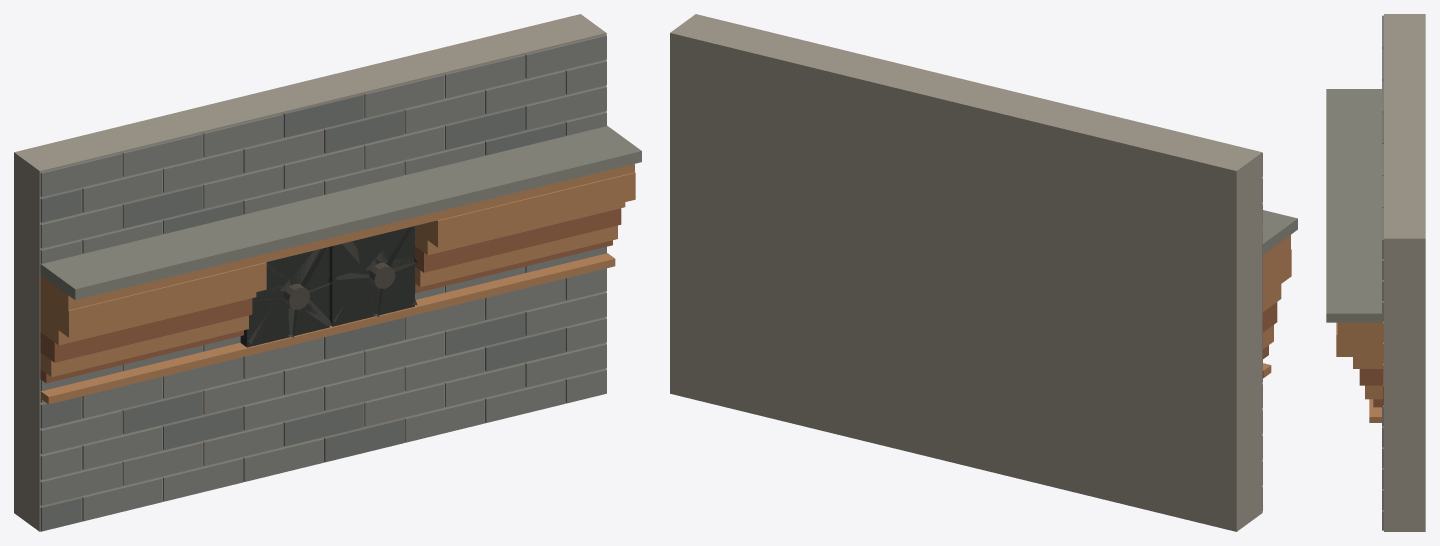
File: changning-husi-warehouse-ribbed-iron-plates-full.glb
3 renders of one model, left to right at view 1: azimuth 30°, elevation 25°; view 2: azimuth 150°, elevation 25°; view 3: azimuth 270°, elevation 25°, orthographic. The views are drawn at different scales.
Parts seen in each view (by area): view 1: 湖丝栈灰砖厂房放射纹铁板与砖腰线; view 2: 湖丝栈灰砖厂房放射纹铁板与砖腰线; view 3: 湖丝栈灰砖厂房放射纹铁板与砖腰线.
Part boxes in pixels (x1,y1,x2,y2): 湖丝栈灰砖厂房放射纹铁板与砖腰线: [14, 14, 641, 531]; 湖丝栈灰砖厂房放射纹铁板与砖腰线: [670, 14, 1297, 531]; 湖丝栈灰砖厂房放射纹铁板与砖腰线: [1326, 14, 1425, 531].
Bounding box in the file's own units: 1.66 × 1.01 × 0.311.
